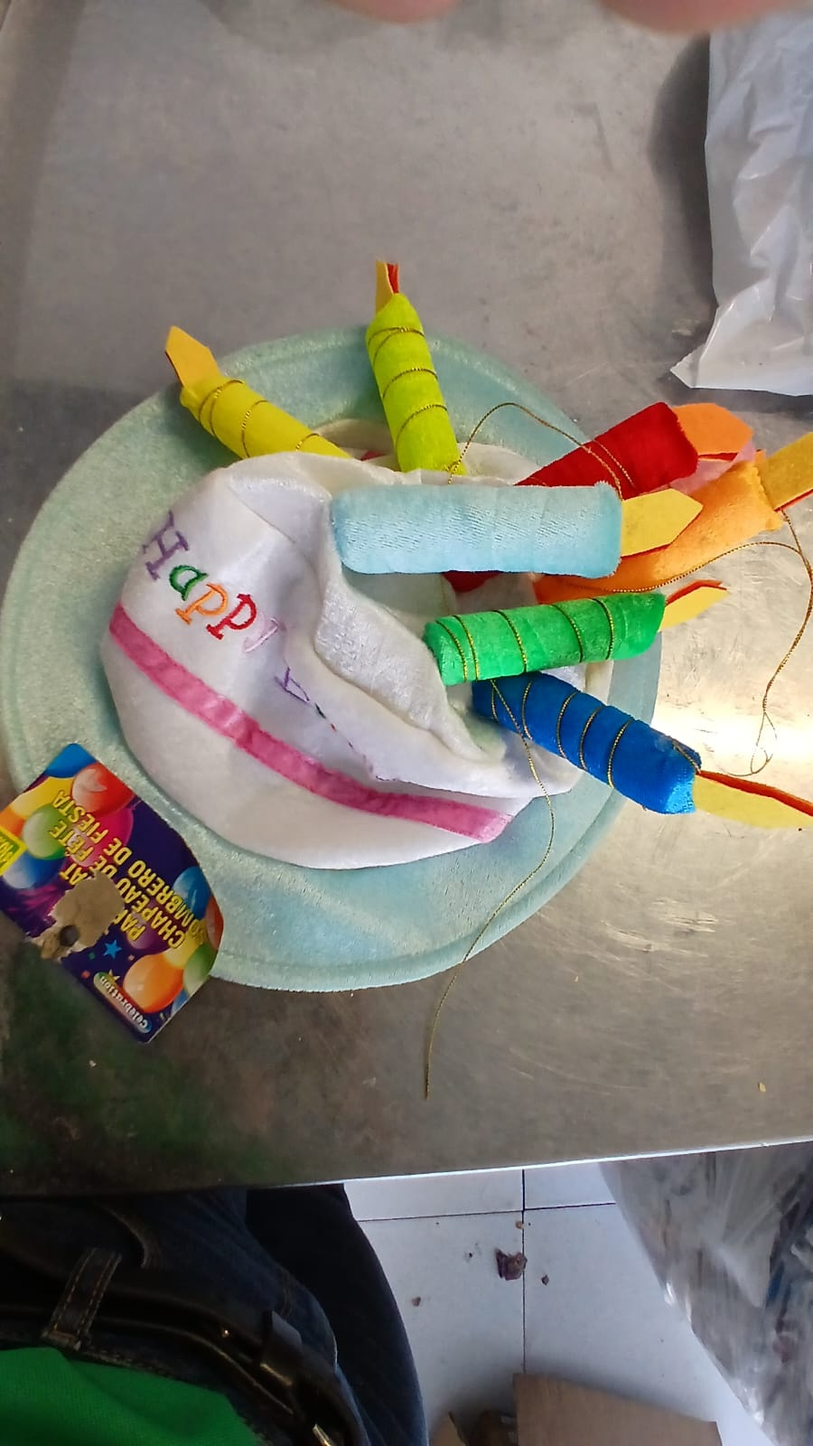Ordinario: (8, 266, 813, 1053)
